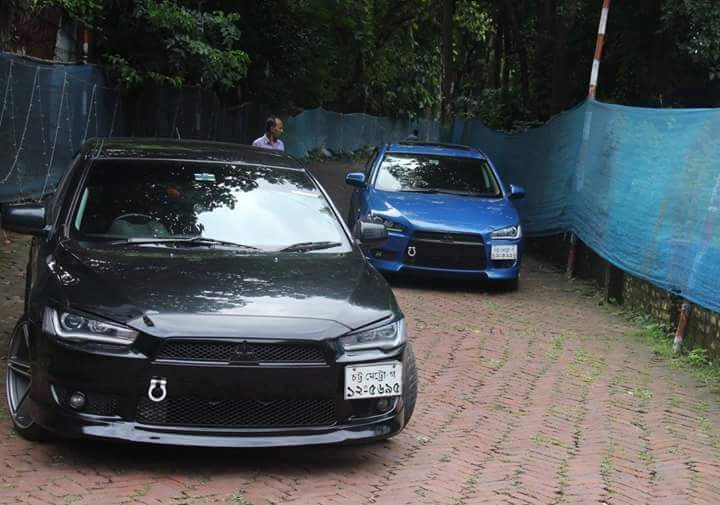registration_plate: (344, 360, 403, 400), (490, 244, 518, 259)
